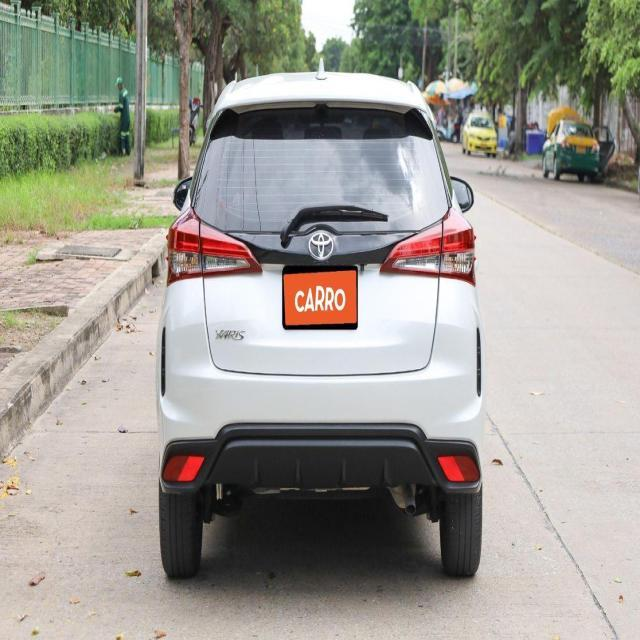Hatchback: (155, 70, 486, 582)
